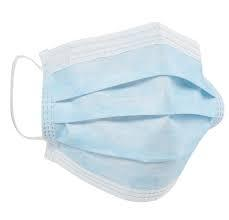paper: (6, 22, 222, 203)
